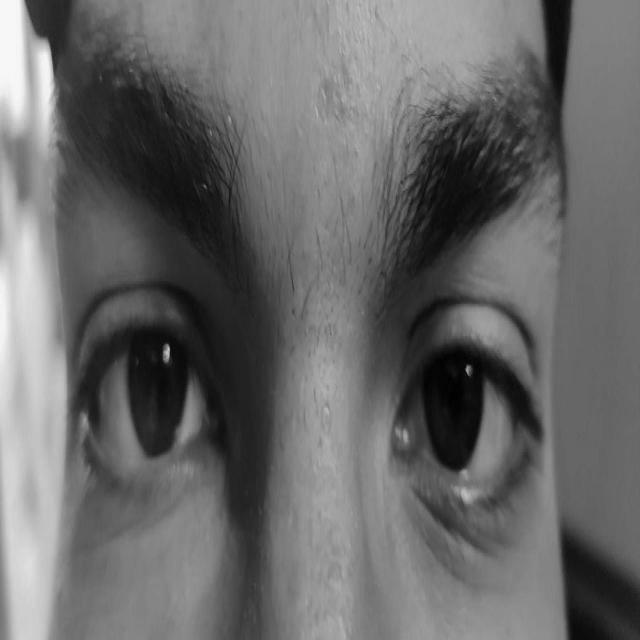real: (58, 212, 558, 568)
